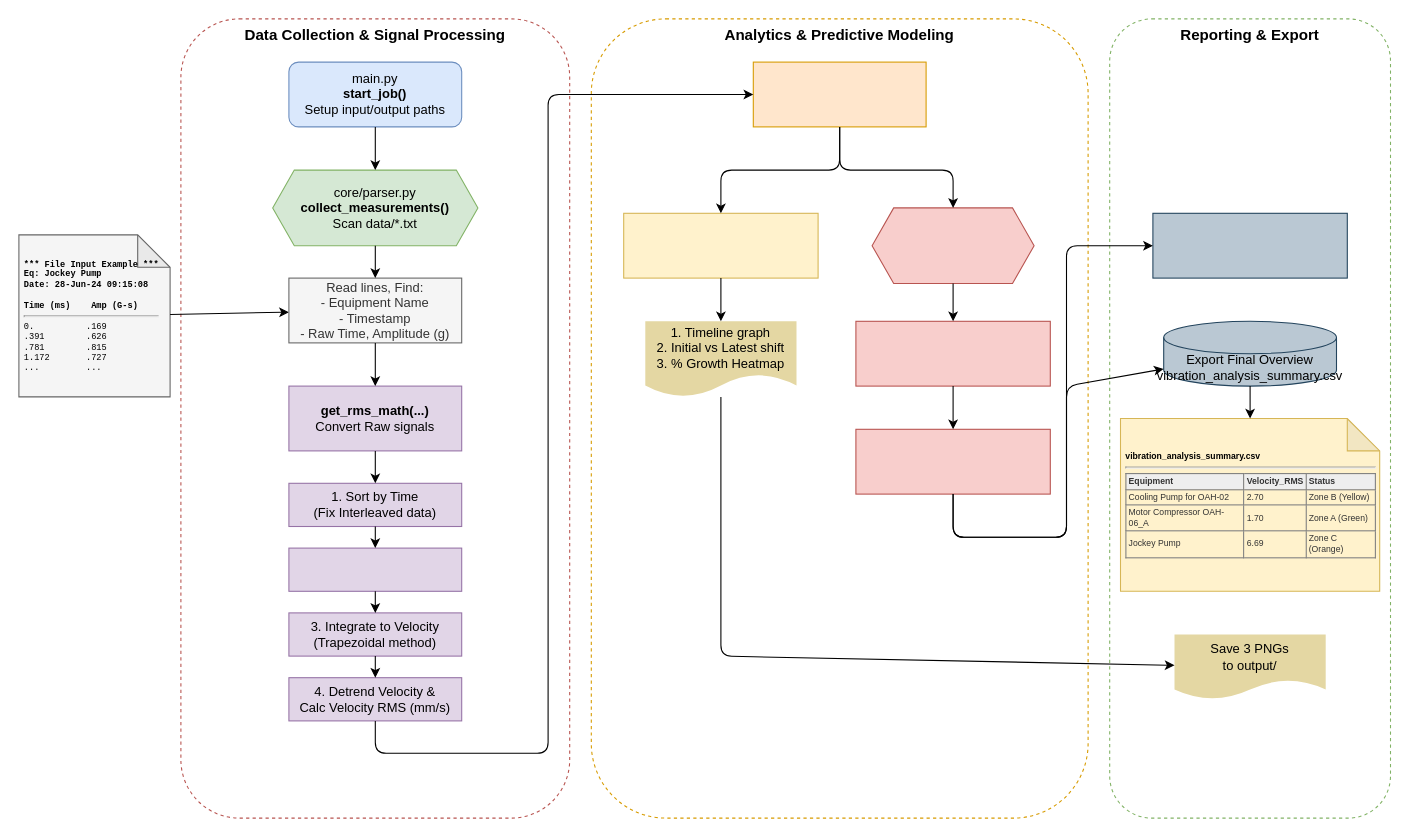
This 1409x837 diagram has some shape labels left out. The centre of each missing label's shape, as x and y in pixels:
"2. Detrend Acceleration (Remove DC part)" goes at (375,569).
"core/classifier.py attach_health_zones() Assign ISO Status (A/B/C/D Zones)" goes at (839,94).
"core/forecast.py calc_breakdown_point() 1-degree polyfit (y=mx+b)" goes at (952,353).
"core/visualize.py generate_visualizations() Create PNG Charts" goes at (720,245).
"Group by Equipment & Sort by Time" goes at (952,245).
"If Degrading (slope > 0): Find days to hit 7.1 limit Return Est. Date" goes at (952,461).
"Print PrettyTable to Terminal [ TODAY'S ASSET OVERVIEW ]" goes at (1249,245).
